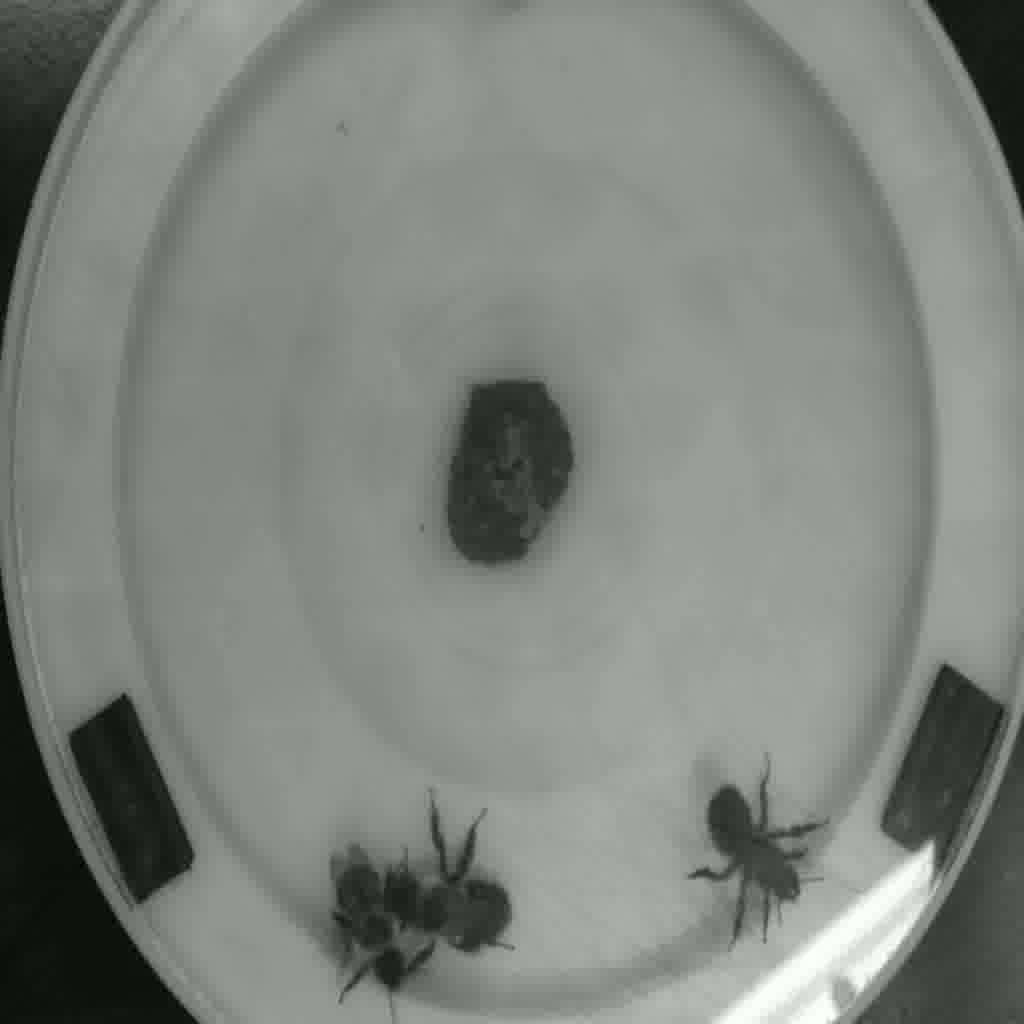bee: (682, 775, 828, 925), (307, 850, 419, 1000), (382, 850, 524, 949)
